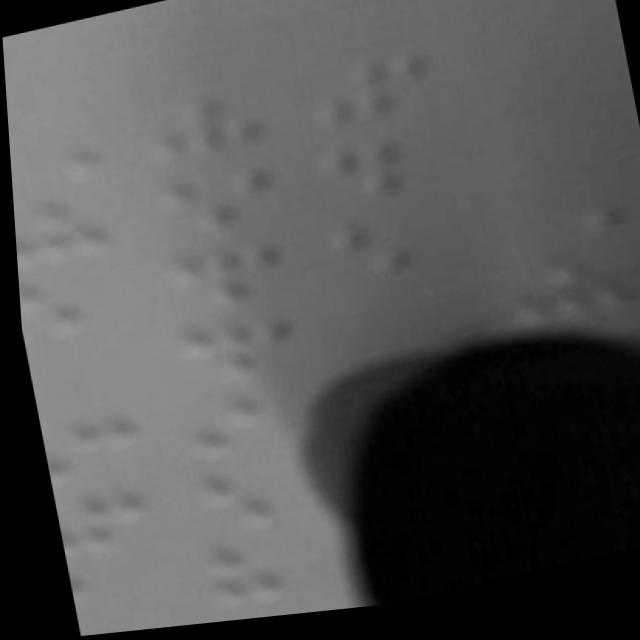braiile: (315, 202, 473, 305), (311, 125, 471, 223), (297, 53, 458, 150), (163, 301, 311, 403), (155, 227, 304, 325), (177, 448, 330, 543), (136, 83, 286, 179), (145, 150, 287, 250), (168, 383, 309, 475), (14, 256, 142, 346), (32, 403, 152, 494), (10, 184, 120, 277)
